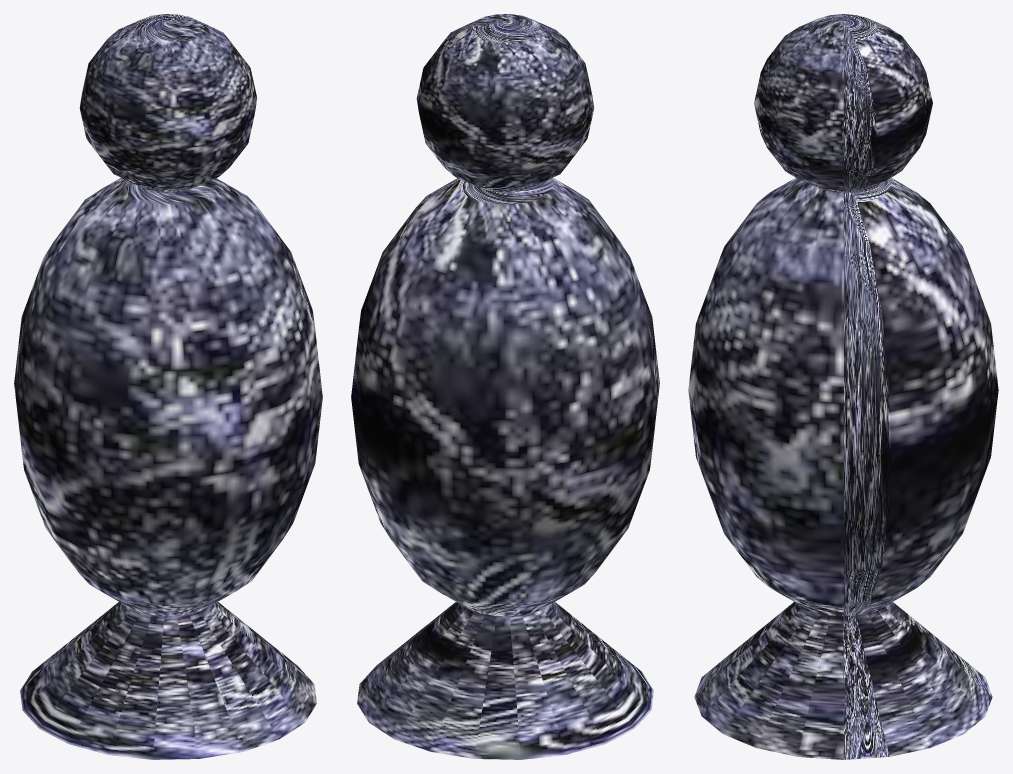
Rendered from thief.obj.
3 renders of one model, left to right at view 1: azimuth 30°, elevation 25°; view 2: azimuth 150°, elevation 25°; view 3: azimuth 270°, elevation 25°, orthographic.
Parts seen in each view (by area): view 1: $dummy_node; view 2: $dummy_node; view 3: $dummy_node.
Part boxes in pixels (x1=…): $dummy_node: x1=14, y1=14, x2=322, y2=759; $dummy_node: x1=351, y1=14, x2=659, y2=759; $dummy_node: x1=688, y1=14, x2=998, y2=759.
Size of the model in its own units: 208 by 499 by 208.
Materials: 1 (1 with a texture image).
